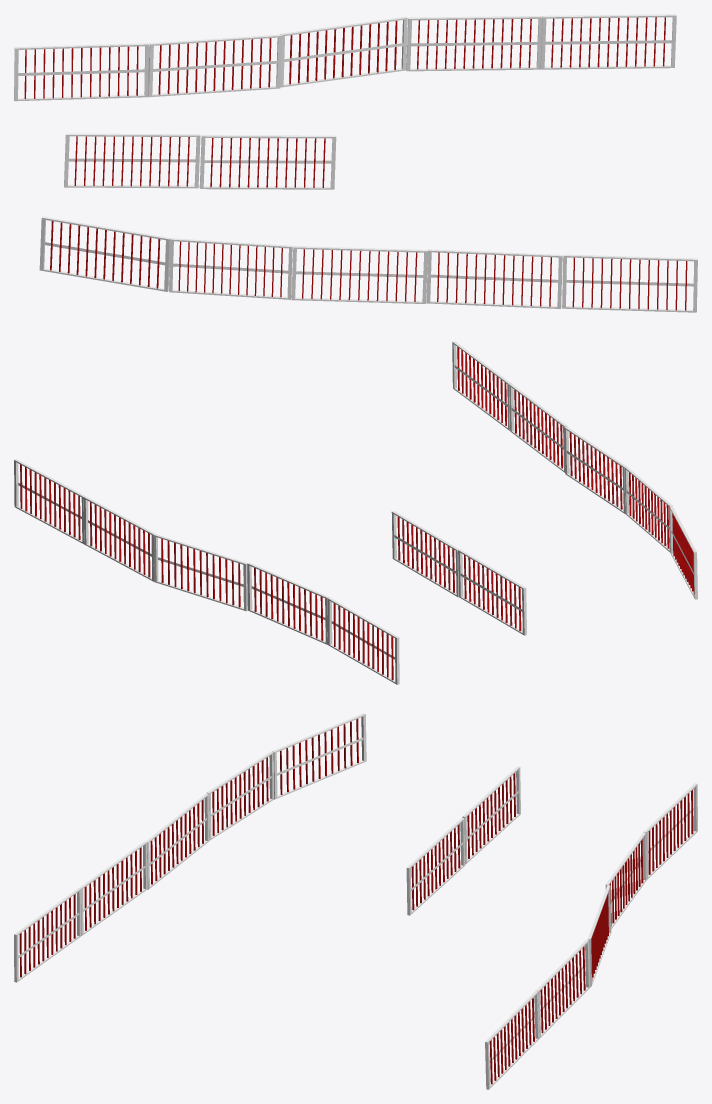
Rendered from sidewaysd.fbx.
3 views of the same model, one above another, from view 1: azimuth 30°, elevation 25°; view 2: azimuth 150°, elevation 25°; view 3: azimuth 270°, elevation 25° (orthographic). The views are drawn at different scales.
Parts seen in each view (by area): view 1: side.005, side.008, side.004, side.002, side.010, side.003, side.009, side.011, side.001, side.007, side.012, side.006; view 2: side.008, side.003, side.004, side.001, side.010, side.009, side.002, side.007, side.012, side.011, side.006, side.005; view 3: side.005, side.012, side.011, side.002, side.007, side.010, side.006, side.001, side.009, side.003, side.004, side.008.
Part boxes in pixels (x1,y1,x2,y2): side.005: (39,216,170,291); side.008: (280,16,407,87); side.004: (148,34,281,97); side.002: (199,135,336,189); side.010: (540,14,676,69); side.003: (14,43,148,101); side.009: (406,16,542,71); side.011: (426,249,562,308); side.001: (64,133,200,188); side.007: (291,246,427,303); side.012: (562,254,697,312); side.006: (169,238,292,299); side.008: (153,534,247,611); side.003: (327,597,399,684); side.004: (247,562,329,644); side.001: (458,549,526,635); side.010: (14,459,85,544); side.009: (83,496,155,581); side.002: (391,511,459,597); side.007: (564,426,626,513); side.012: (452,341,511,430); side.011: (509,384,567,472); side.006: (624,466,672,552); side.005: (669,506,697,599); side.005: (272,713,366,799); side.012: (14,888,81,982); side.011: (79,841,147,935); side.002: (406,817,465,915); side.007: (146,793,209,889); side.010: (485,991,539,1089); side.006: (206,751,274,840); side.001: (462,766,520,864); side.009: (536,939,590,1038); side.003: (644,783,697,879); side.004: (605,832,646,928); side.008: (587,885,611,986).
Size of the model in its own units: 1934 by 1781 by 184.
